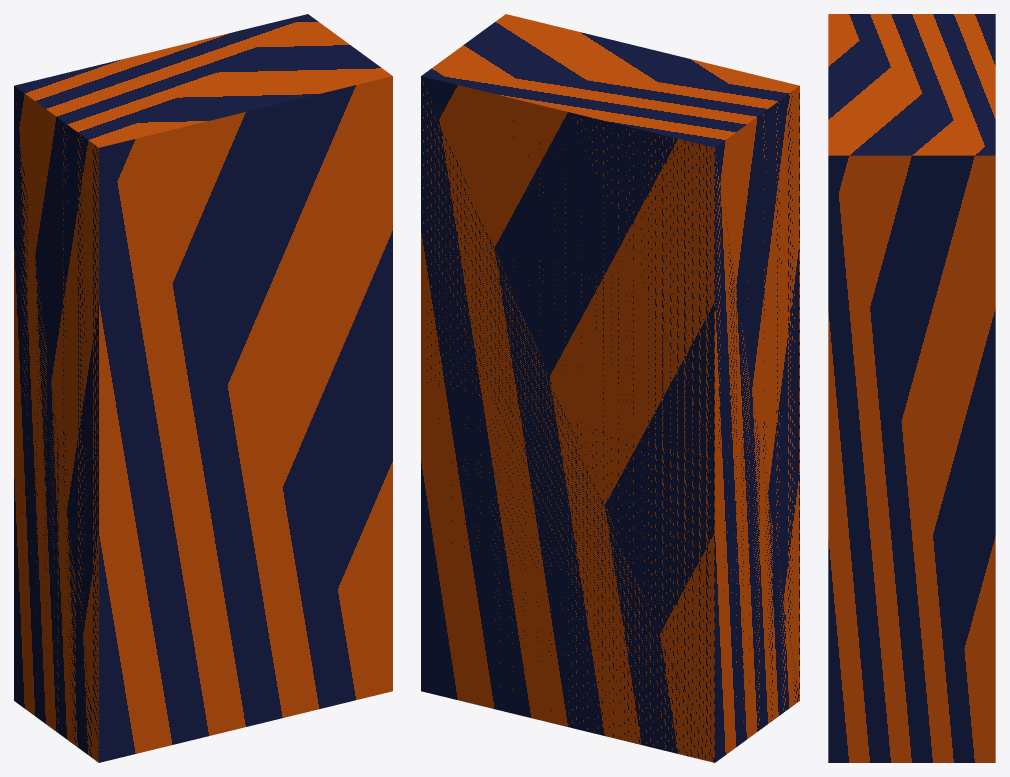
File: box_web.glb
The picture shows the model from 3 angles, left to right: view 1: azimuth 30°, elevation 25°; view 2: azimuth 150°, elevation 25°; view 3: azimuth 270°, elevation 25°; orthographic projection.
Parts seen in each view (by area): view 1: box; view 2: box; view 3: box.
Boxes of the visible parts, x1=… form: box: x1=14, y1=14, x2=392, y2=762; box: x1=421, y1=14, x2=799, y2=762; box: x1=828, y1=14, x2=995, y2=762.
Bounding box in the file's own units: 1 × 2 × 0.5001.
Materials: 1 (1 with a texture image).
